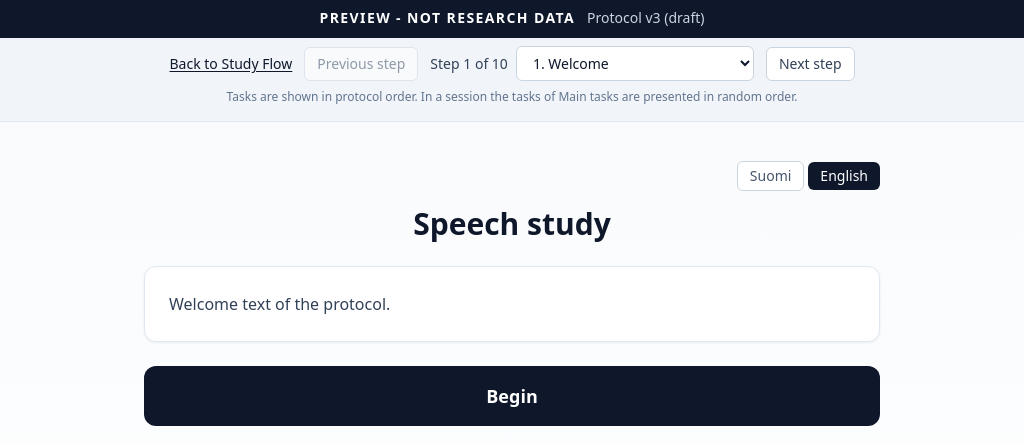
Test: PreviewFlow › shows the study texts in the language chosen with the language buttons
The image size is (1024, 443).
Expected: the text "Welcome text of the protocol." is shown, [169,293,390,315]
Click the button "Suomi" at (771, 176), box [737,154,804,198]
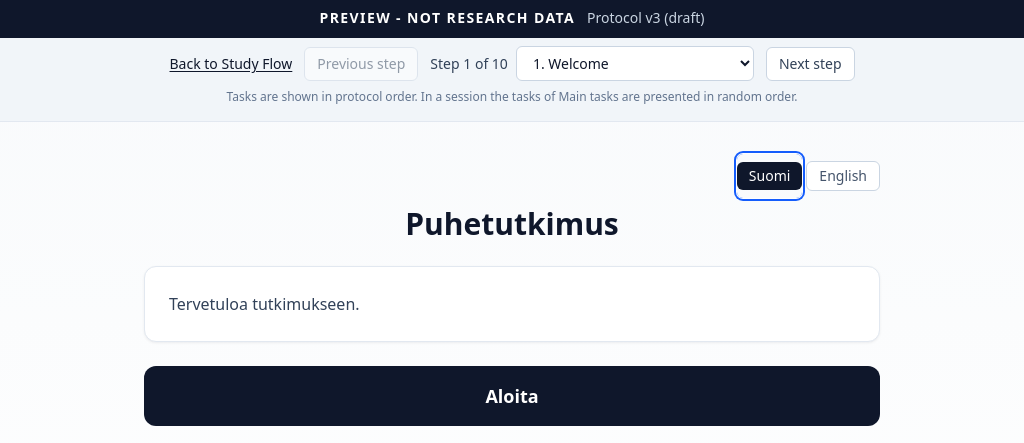
Expected: the heading "Puhetutkimus" is shown, [405,203,619,244]
Expected: the text "Tervetuloa tutkimukseen." is shown, [169,293,360,315]
Click the button "Next step" at (810, 64), box [766,46,854,80]
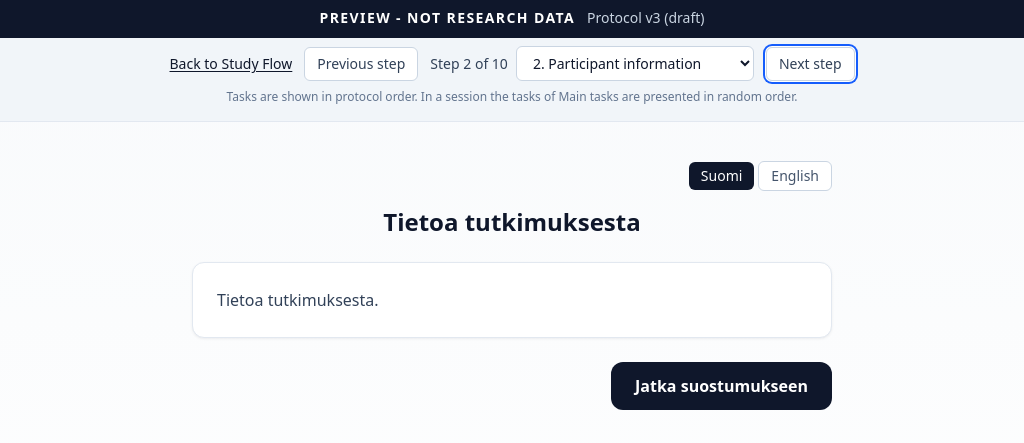
Expected: the text "Tietoa tutkimuksesta." is shown, [217,289,378,311]
Click the button "English" at (795, 176), box [758,154,832,198]
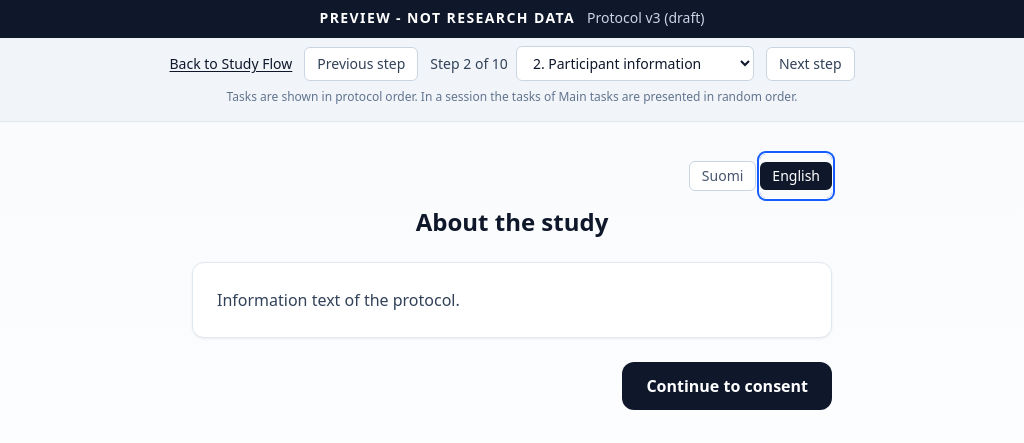
Expected: the text "Information text of the protocol." is shown, [217,289,460,311]
